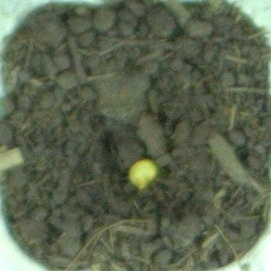chilli seed: (125, 157, 160, 191)
